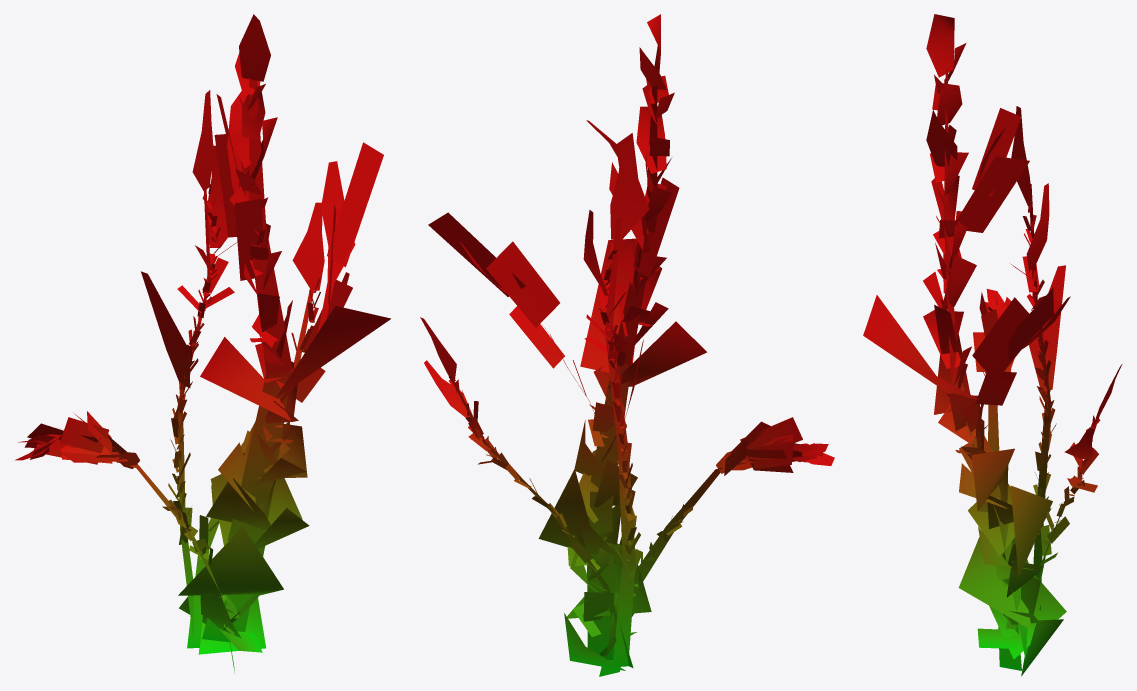
Rendered from Myricaria_LOD2_Var3_tfbldaor.fbx.
3 views of the same model, side by side, from view 1: azimuth 30°, elevation 25°; view 2: azimuth 150°, elevation 25°; view 3: azimuth 270°, elevation 25° (orthographic). The views are drawn at different scales.
Parts seen in each view (by area): view 1: _1bf3_Var3_LOD2; view 2: _1bf3_Var3_LOD2; view 3: _1bf3_Var3_LOD2.
Part boxes in pixels (left/top/right/bottom): _1bf3_Var3_LOD2: left=15, top=14, right=390, bottom=673; _1bf3_Var3_LOD2: left=420, top=14, right=834, bottom=676; _1bf3_Var3_LOD2: left=863, top=14, right=1122, bottom=676.
Size of the model in its own units: 46.39 by 75.52 by 27.42.
